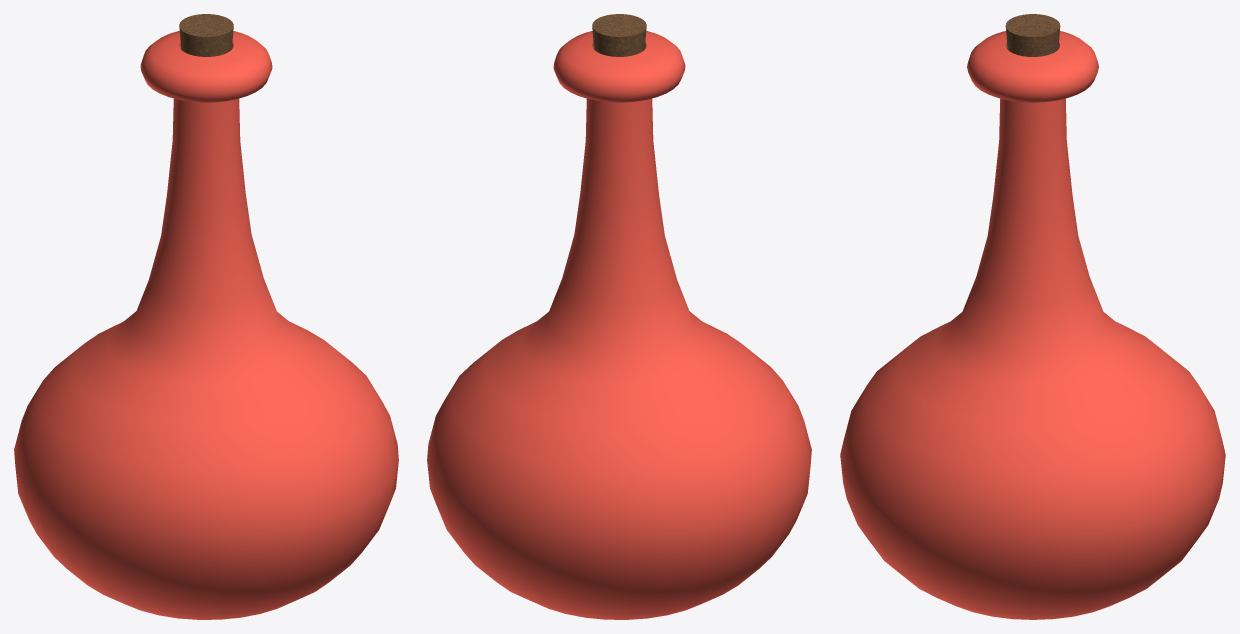
Rendered from flask_healing.gltf.
3 views of the same model, side by side, from view 1: azimuth 30°, elevation 25°; view 2: azimuth 150°, elevation 25°; view 3: azimuth 270°, elevation 25° (orthographic).
Visible parts, largest first — view 1: Cylinder; view 2: Cylinder; view 3: Cylinder.
Boxes of the visible parts, x1=… form: Cylinder: x1=14, y1=14, x2=398, y2=619; Cylinder: x1=427, y1=14, x2=811, y2=619; Cylinder: x1=840, y1=14, x2=1225, y2=619.
Size of the model in its own units: 0.1154 by 0.1893 by 0.1154.
Materials: 1 (1 with a texture image).
